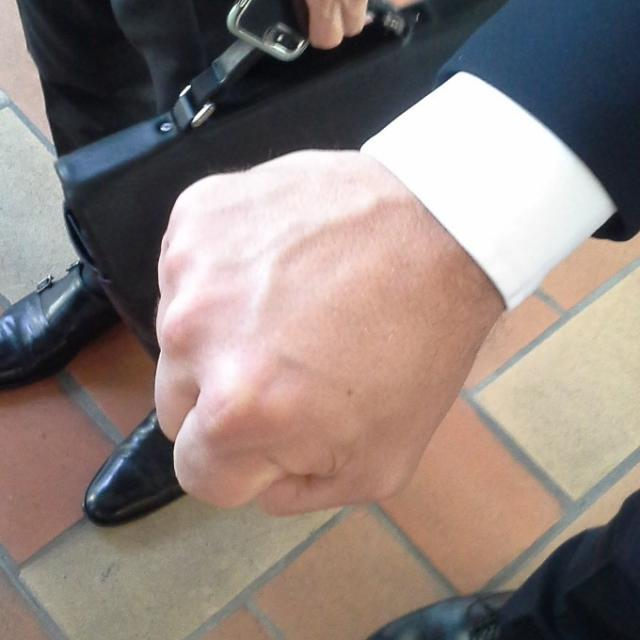rock: (158, 148, 424, 515)
